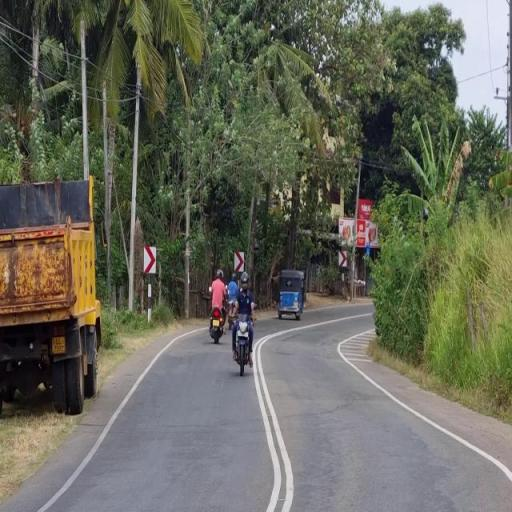double_white_line: (336, 330, 510, 483), (251, 326, 293, 512), (0, 18, 36, 70)
